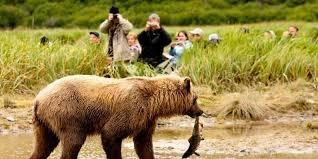bear: (30, 74, 205, 159)
